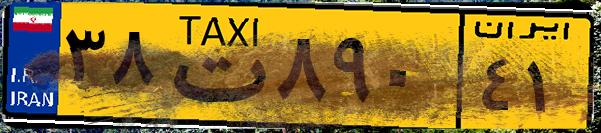0: (385, 28, 445, 110)
1: (525, 38, 570, 115)
3: (57, 26, 110, 100)
4: (475, 38, 525, 113)
8: (270, 28, 330, 110), (110, 28, 158, 98)
9: (330, 28, 385, 110)
ت: (158, 12, 270, 120)
